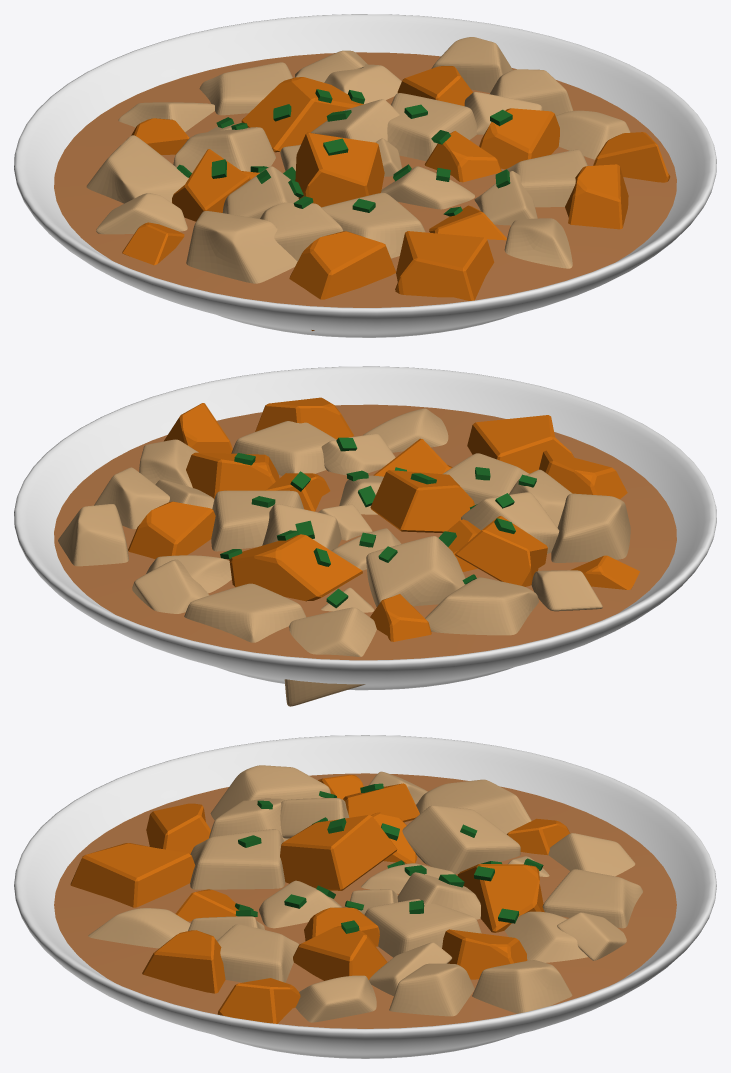
The model's file is potato carrot stew.fbx.
3 views of the same model, one above another, from view 1: azimuth 30°, elevation 25°; view 2: azimuth 150°, elevation 25°; view 3: azimuth 270°, elevation 25° (orthographic).
Visible parts, largest first — view 1: patatp carrot stew, tomato egg.002, chunk.012, chunk.018, chunk.006, chunk.019, chunk.022, chunk.009, chunk.008, chunk.026, chunk.021, chunk.003 (+25 smaller); view 2: patatp carrot stew, tomato egg.002, chunk.022, chunk.023, chunk.009, chunk.006, chunk.012, chunk.014, chunk.036, chunk.018, chunk.030, chunk.025 (+28 smaller); view 3: patatp carrot stew, tomato egg.002, chunk.006, chunk.018, chunk.023, chunk.003, chunk.037, chunk.008, chunk.014, chunk.026, chunk.017, chunk.022 (+27 smaller).
Part boxes in pixels (x1,y1,x2,y2): patatp carrot stew: (14,14,716,337); tomato egg.002: (54,52,676,307); chunk.012: (186,211,297,283); chunk.018: (395,231,494,300); chunk.006: (295,132,384,207); chunk.019: (289,231,395,330); chunk.022: (241,77,363,152); chunk.009: (86,135,188,203); chunk.008: (387,93,477,161); chunk.026: (565,164,628,229); chunk.021: (479,108,559,169); chunk.003: (321,193,425,258); patatp carrot stew: (14,366,716,690); tomato egg.002: (54,404,676,660); chunk.022: (229,534,362,601); chunk.023: (366,536,465,606); chunk.009: (425,577,538,635); chunk.006: (370,470,474,532); chunk.012: (551,493,630,562); chunk.014: (184,583,305,642); chunk.036: (284,607,376,706); chunk.018: (467,415,573,473); chunk.030: (455,516,547,586); chunk.025: (128,501,215,559); patatp carrot stew: (14,735,716,1058); tomato egg.002: (54,773,676,1028); chunk.006: (280,815,397,890); chunk.018: (70,843,195,907); chunk.023: (402,805,520,873); chunk.003: (190,829,285,889); chunk.037: (472,960,572,1013); chunk.008: (364,899,481,957); chunk.014: (542,869,642,928); chunk.026: (142,930,225,993); chunk.017: (217,924,298,982); chunk.022: (457,864,544,932).
Size of the model in its own units: 407 by 78.55 by 407.
